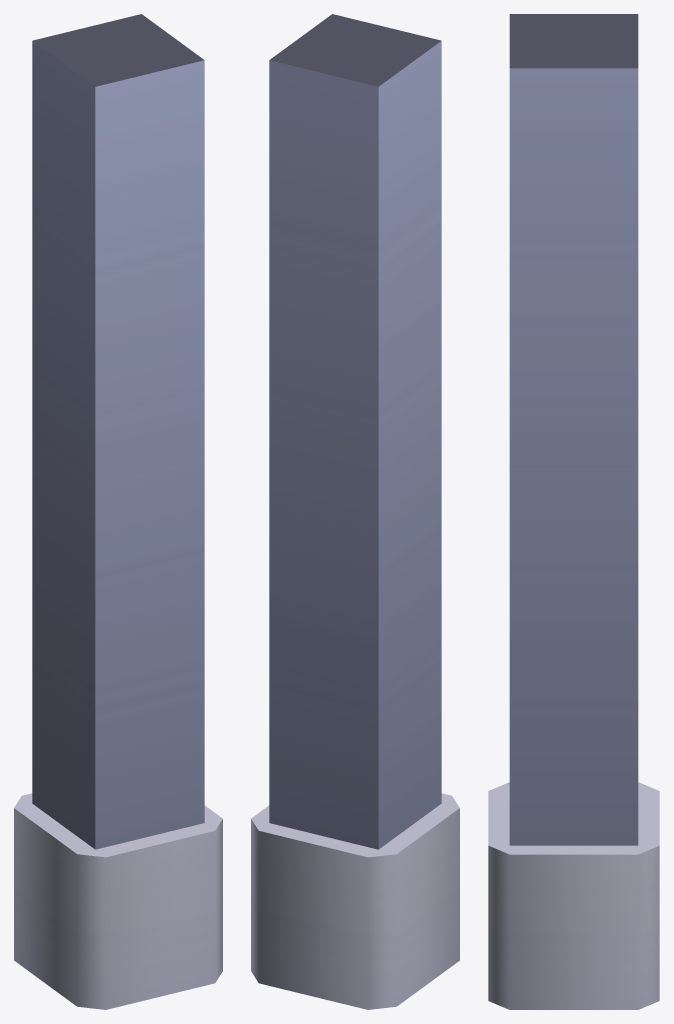
File: part_column_thin.fbx
3 renders of one model, left to right at view 1: azimuth 30°, elevation 25°; view 2: azimuth 150°, elevation 25°; view 3: azimuth 270°, elevation 25°, orthographic.
Visible parts, largest first — view 1: column-thin; view 2: column-thin; view 3: column-thin.
Boxes of the visible parts, x1,y1,x2,y2 form: column-thin: (14,14,222,1009); column-thin: (251,14,459,1009); column-thin: (488,14,659,1009).
Size of the model in its own units: 40 by 240 by 40.
Materials: 1 (1 with a texture image).
